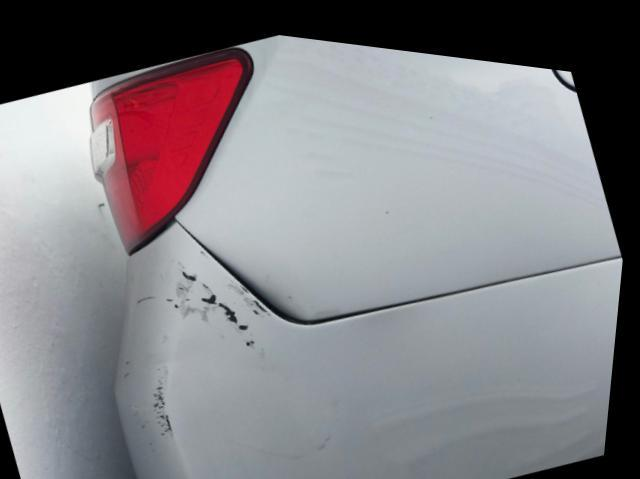scratch: (130, 241, 275, 440)
